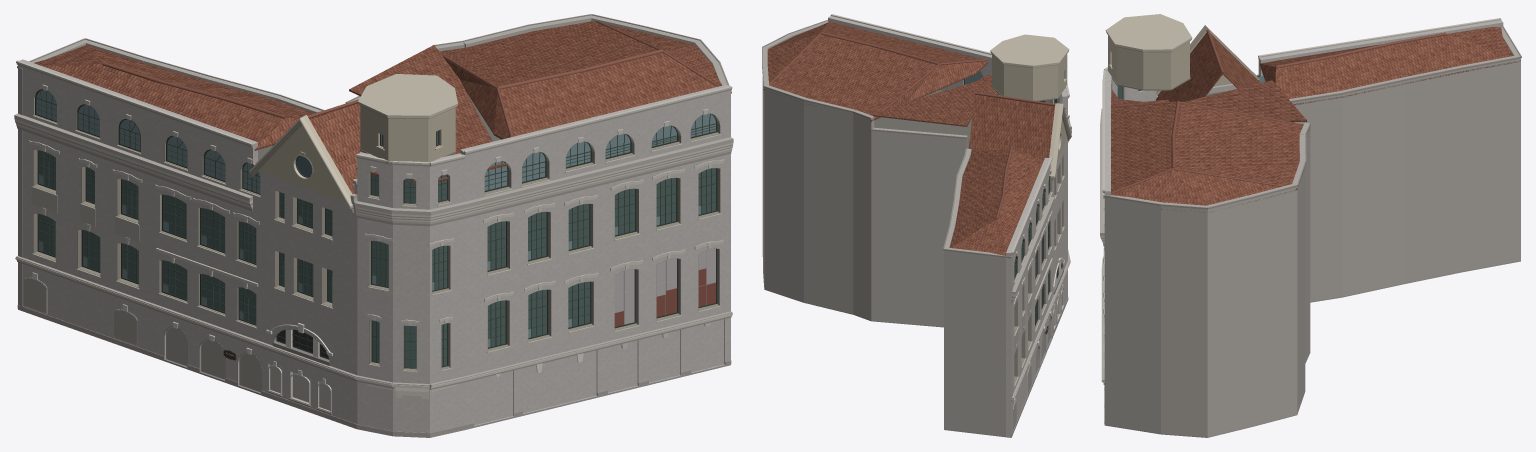
Rendered from hongkou-st-lukes-hospital-changzhi-nanxun-corner-raw.glb.
3 views of the same model, side by side, from view 1: azimuth 30°, elevation 25°; view 2: azimuth 150°, elevation 25°; view 3: azimuth 270°, elevation 25° (orthographic). The views are drawn at different scales.
Parts seen in each view (by area): view 1: 同仁医院旧址长治路、南浔路转角住宅; view 2: 同仁医院旧址长治路、南浔路转角住宅; view 3: 同仁医院旧址长治路、南浔路转角住宅.
Part boxes in pixels (x1,y1,x2,y2): 同仁医院旧址长治路、南浔路转角住宅: (14,14,733,437); 同仁医院旧址长治路、南浔路转角住宅: (762,14,1071,437); 同仁医院旧址长治路、南浔路转角住宅: (1100,14,1521,437).
Bounding box in the file's own units: 30.47 × 18.28 × 25.71.
Materials: 33 (2 with a texture image).
